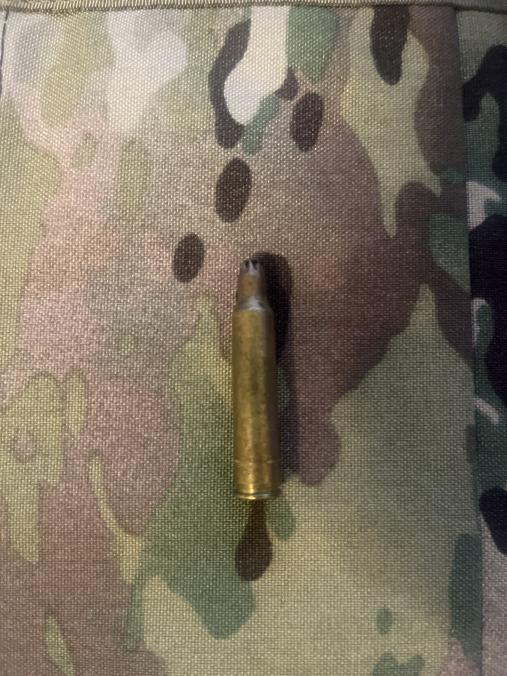556-unfired-blank: (230, 256, 282, 503)
